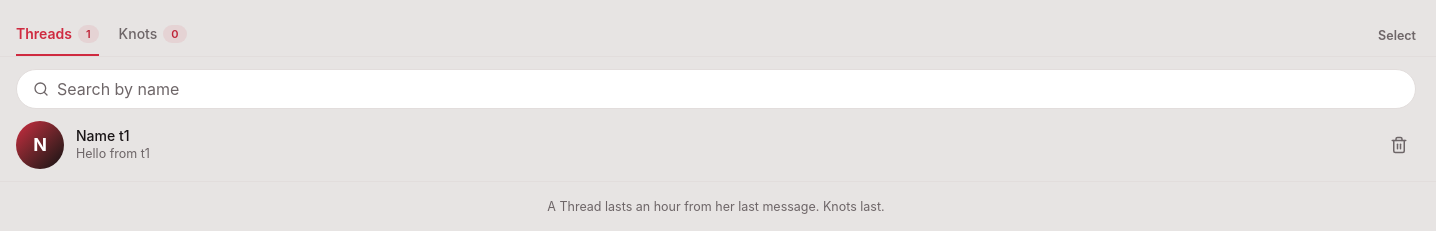
Scenario: clearing one, with 5 s to undo it › puts the row back and says so when the clear is refused (NOT_FOUND)
The image size is (1436, 231).
Step 1. Click the button named "Clear the chat with Name t1" → (1399, 145), box [1382,128,1416,162]
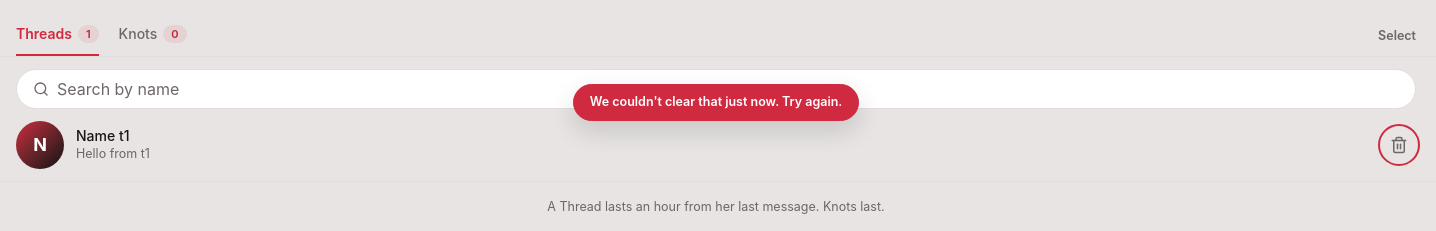
Expected: the text "Name t1" is shown, [76,126,130,145]
Expected: the text "We couldn't clear that just now. Try again." is shown, [590,93,842,112]
